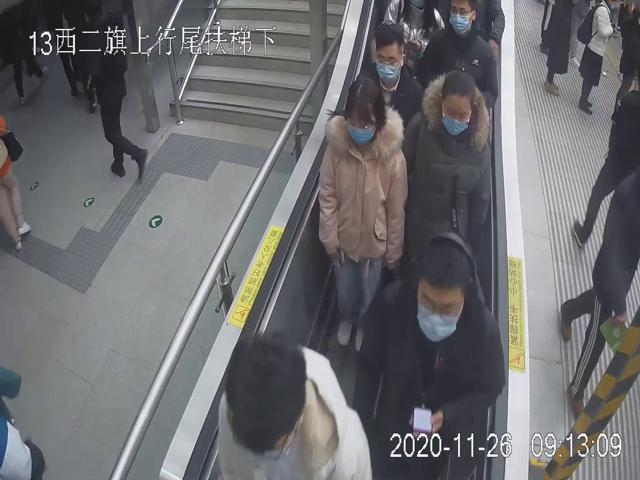person: (352, 228, 506, 480), (318, 70, 408, 351), (402, 68, 494, 249), (414, 0, 501, 109), (341, 19, 430, 123)
